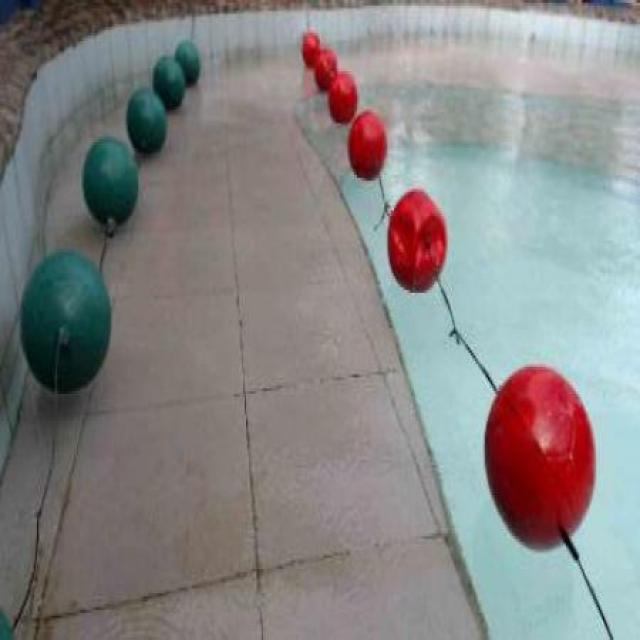buoy: (483, 365, 596, 548), (18, 250, 112, 390), (385, 188, 448, 292), (81, 136, 138, 225), (346, 106, 386, 178), (124, 85, 165, 150), (153, 54, 185, 110), (326, 68, 356, 124), (173, 39, 200, 86), (313, 46, 336, 90), (301, 30, 321, 68)
